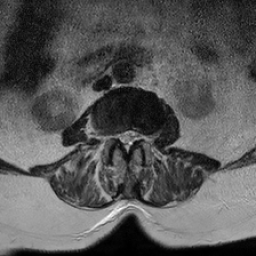CCS_normal: (123, 121, 130, 157)
LFS_stenosis: (139, 123, 147, 147)
LLS_normal: (130, 123, 139, 148)
RFS_stenosis: (107, 124, 115, 147)
RLS_normal: (115, 124, 123, 147)
